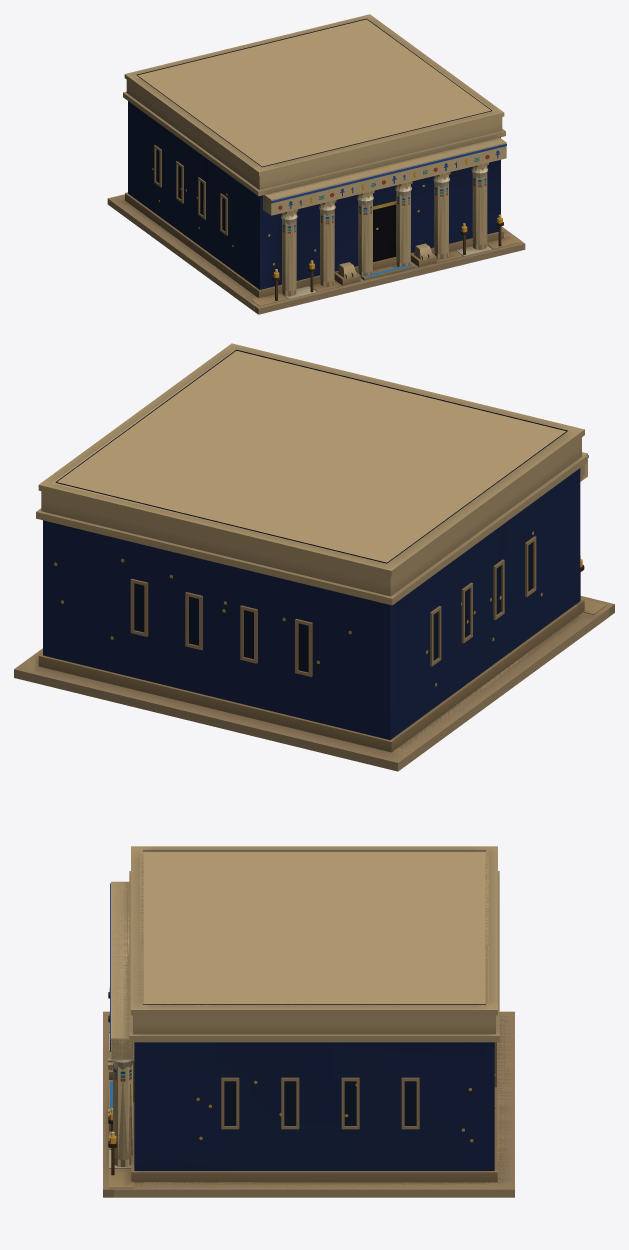
File: EgyptianSarcophagusFloor.fbx
3 views of the same model, one above another, from view 1: azimuth 30°, elevation 25°; view 2: azimuth 150°, elevation 25°; view 3: azimuth 270°, elevation 25° (orthographic). The views are drawn at different scales.
Visible parts, largest first — view 1: LX_S_All, LX_F_Rings, LX_F_Smooth, LX_F_Quiet, LX_F_Props, LX_F_Glass; view 2: LX_F_Rings, LX_S_All, LX_F_Quiet, LX_F_Smooth, LX_F_Glass; view 3: LX_S_All, LX_F_Rings, LX_F_Quiet, LX_F_Smooth, LX_F_Glass.
Part boxes in pixels (x1=…): LX_S_All: x1=107, y1=19, x2=514, y2=311; LX_F_Rings: x1=123, y1=14, x2=505, y2=289; LX_F_Smooth: x1=123, y1=74, x2=525, y2=314; LX_F_Quiet: x1=108, y1=192, x2=524, y2=308; LX_F_Props: x1=334, y1=243, x2=436, y2=285; LX_F_Glass: x1=156, y1=149, x2=502, y2=277; LX_F_Rings: x1=36, y1=343, x2=586, y2=739; LX_S_All: x1=14, y1=349, x2=609, y2=771; LX_F_Quiet: x1=14, y1=596, x2=614, y2=762; LX_F_Smooth: x1=36, y1=429, x2=614, y2=686; LX_F_Glass: x1=134, y1=542, x2=582, y2=672; LX_S_All: x1=111, y1=850, x2=514, y2=1197; LX_F_Rings: x1=112, y1=846, x2=499, y2=1170; LX_F_Quiet: x1=103, y1=1011, x2=514, y2=1189; LX_F_Smooth: x1=103, y1=883, x2=499, y2=1197; LX_F_Glass: x1=109, y1=987, x2=416, y2=1143.
Size of the model in its own units: 60 by 20 by 60.
